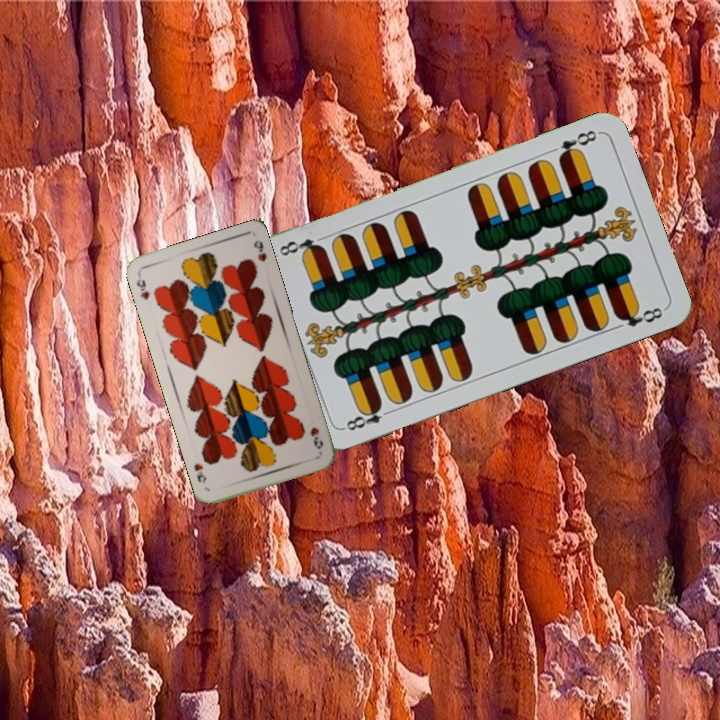E8: (338, 399, 396, 433), (554, 126, 601, 163)
H9: (132, 275, 153, 302), (306, 423, 326, 451)
